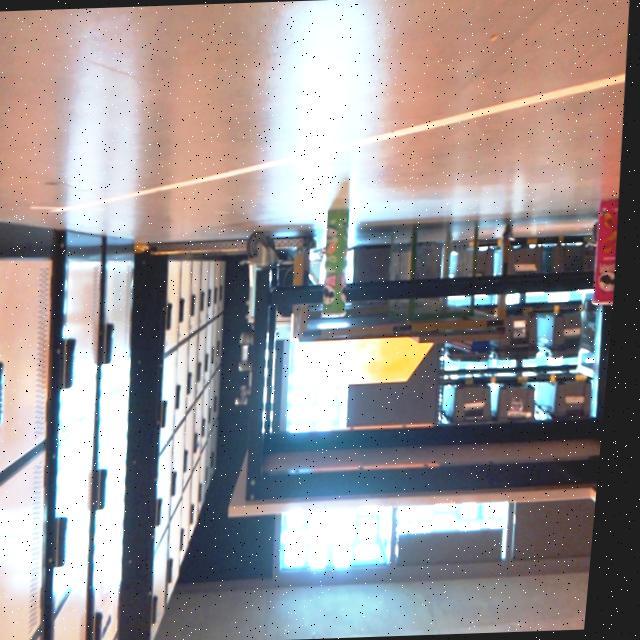greenpringles: (316, 191, 383, 329)
redpringles: (586, 197, 626, 319)
